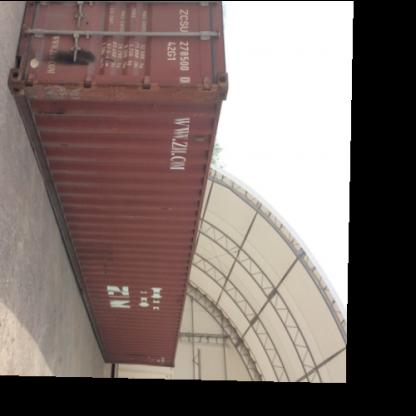Damage: (83, 240, 117, 282), (43, 43, 94, 66), (184, 124, 214, 154), (118, 343, 156, 360), (35, 106, 74, 120), (174, 284, 189, 314), (73, 17, 96, 32), (99, 52, 123, 66), (154, 204, 178, 214), (58, 143, 76, 148)
